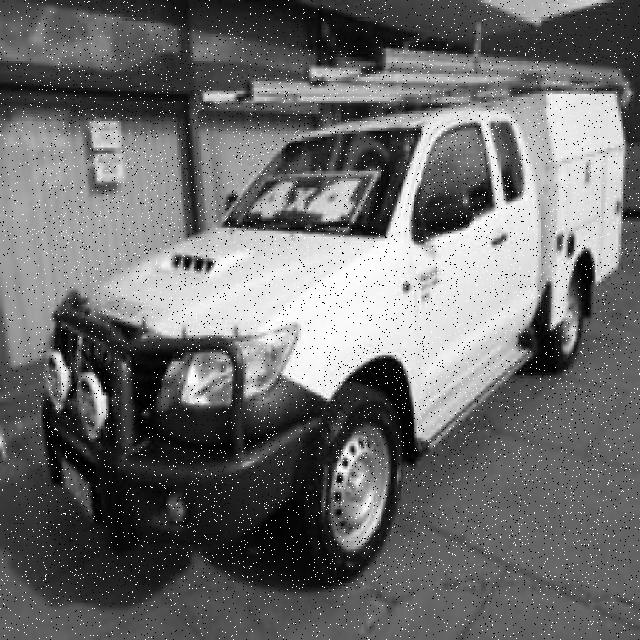Pickup- Utility: (41, 48, 633, 589)
